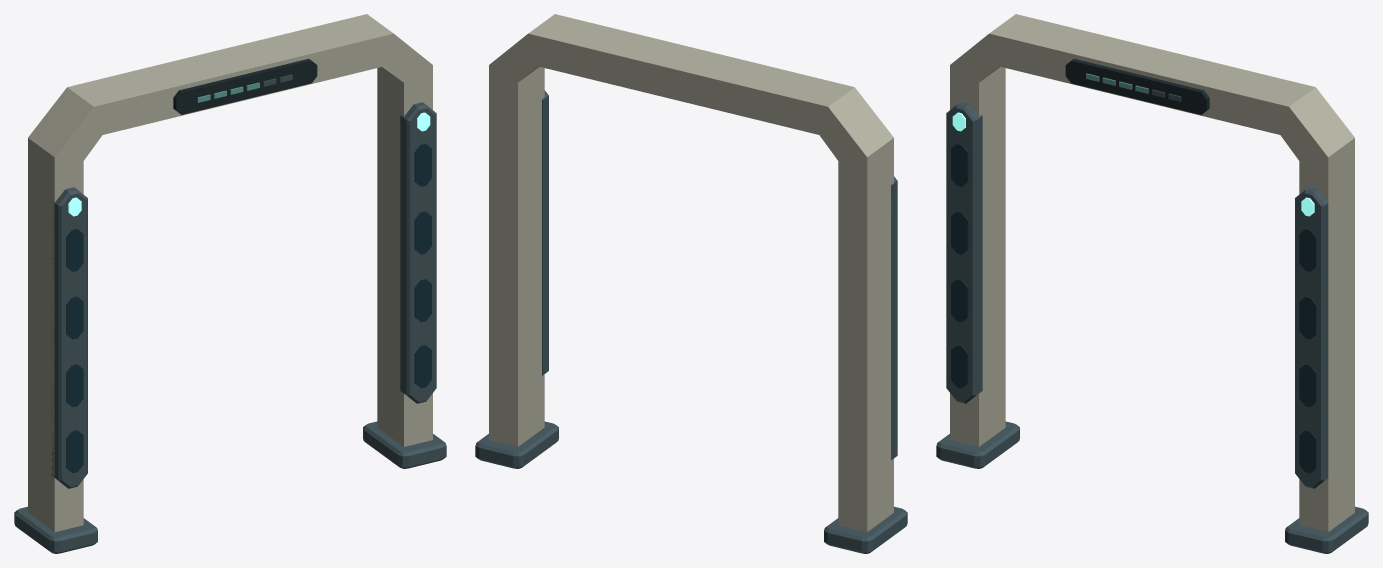
The model's file is RX-03_survey_gate.glb.
The picture shows the model from 3 angles, left to right: view 1: azimuth 30°, elevation 25°; view 2: azimuth 150°, elevation 25°; view 3: azimuth 330°, elevation 25°; orthographic projection.
Visible parts, largest first — view 1: RX-03_survey_gate; view 2: RX-03_survey_gate; view 3: RX-03_survey_gate.
Boxes of the visible parts, x1,y1,x2,y2 form: RX-03_survey_gate: (14,14,446,553); RX-03_survey_gate: (475,14,907,553); RX-03_survey_gate: (936,14,1368,553).
Size of the model in its own units: 2.39 by 2.49 by 0.44.
